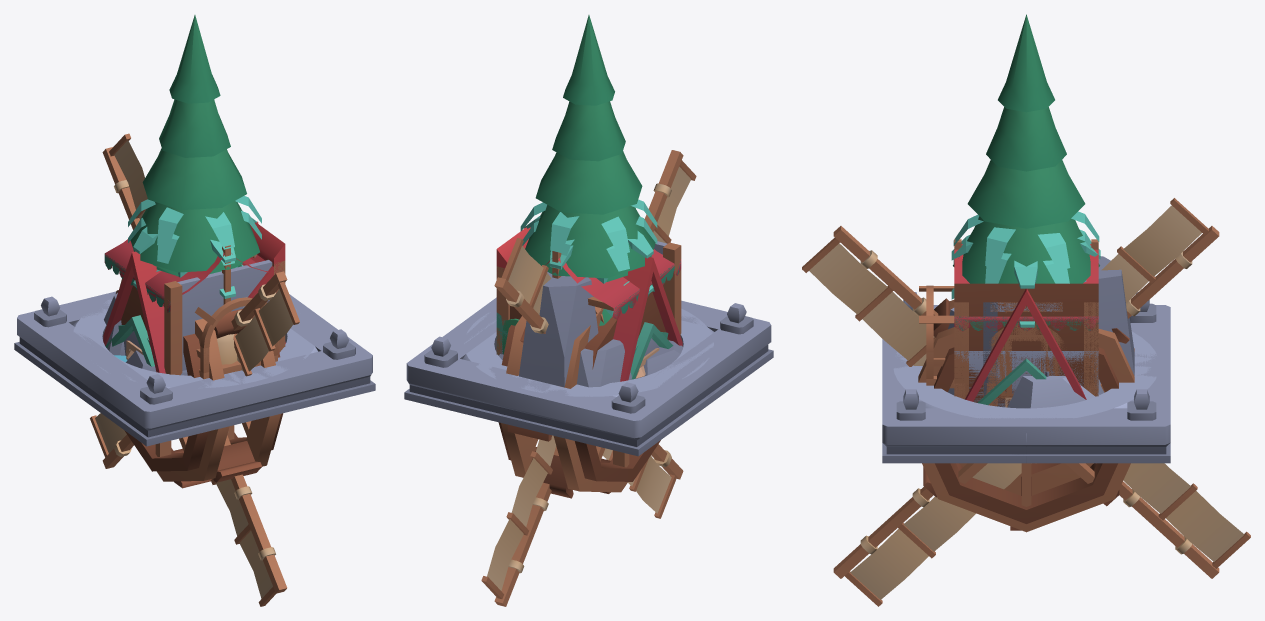
File: kenney.glb
The picture shows the model from 3 angles, left to right: view 1: azimuth 30°, elevation 25°; view 2: azimuth 150°, elevation 25°; view 3: azimuth 270°, elevation 25°; orthographic projection. The views are drawn at different scales.
Parts seen in each view (by area): view 1: fountain-square, tree-high, windmill, watermill, wall-corner, roof-high-gable, fountain-round, stall-red, tree_palm, cart-high, roof-high, roof-gable (+4 smaller); view 2: fountain-square, tree-high, windmill, watermill, rock-wide, fountain-round, roof-high-gable, rock-large, stall-red, tree_palm, wall-corner, roof-gable (+3 smaller); view 3: windmill, fountain-square, tree-high, watermill, roof-high, fountain-round, poles, rock-wide, roof-high-gable, rock-large, tree_palm, roof (+9 smaller).
Boxes of the visible parts, x1,y1,x2,y2 form: fountain-square: [14, 291, 375, 446]; tree-high: [130, 15, 259, 272]; windmill: [90, 133, 299, 606]; watermill: [115, 279, 283, 488]; wall-corner: [164, 260, 272, 375]; roof-high-gable: [103, 221, 285, 373]; fountain-round: [70, 299, 317, 414]; stall-red: [104, 239, 268, 312]; tree_palm: [128, 195, 261, 249]; cart-high: [195, 295, 277, 372]; roof-high: [242, 222, 285, 301]; roof-gable: [105, 315, 154, 366]; fountain-square: [404, 297, 773, 456]; tree-high: [525, 15, 655, 278]; windmill: [481, 150, 696, 606]; watermill: [498, 308, 660, 498]; rock-wide: [519, 272, 598, 387]; fountain-round: [463, 308, 716, 424]; roof-high-gable: [496, 227, 682, 381]; rock-large: [496, 339, 682, 387]; stall-red: [545, 249, 681, 319]; tree_palm: [520, 199, 657, 254]; wall-corner: [654, 241, 681, 335]; roof-gable: [630, 322, 673, 379]; windmill: [802, 198, 1250, 606]; fountain-square: [882, 292, 1170, 463]; tree-high: [953, 14, 1099, 283]; watermill: [918, 298, 1134, 532]; roof-high: [954, 283, 1098, 406]; fountain-round: [893, 331, 1156, 462]; poles: [954, 302, 1098, 399]; rock-wide: [948, 256, 1134, 395]; roof-high-gable: [965, 288, 1086, 401]; rock-large: [948, 308, 1104, 408]; tree_palm: [953, 211, 1099, 270]; roof: [954, 351, 1098, 407].
Bounding box in the file's own units: 2 × 4.53 × 3.11.
